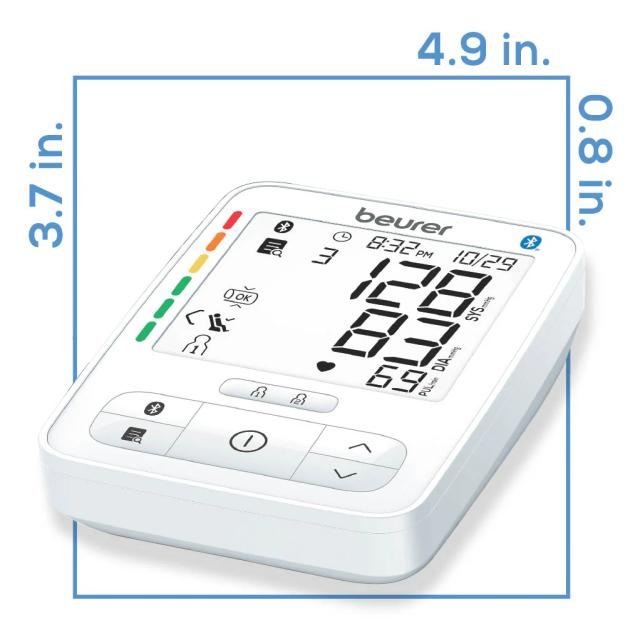dia: (313, 292, 471, 378)
pul: (353, 353, 436, 404)
ssd: (150, 200, 539, 415)
sys: (339, 242, 501, 329)
